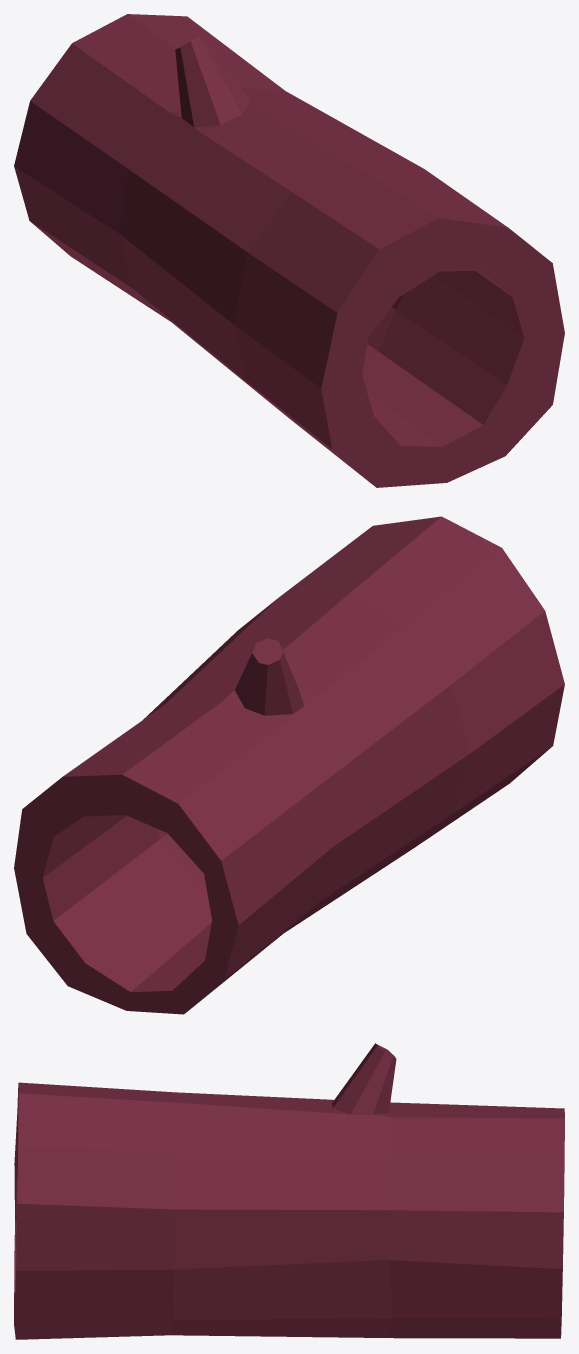
Rendered from Mo_ForestFallenTree02.fbx.
3 views of the same model, one above another, from view 1: azimuth 30°, elevation 25°; view 2: azimuth 150°, elevation 25°; view 3: azimuth 270°, elevation 25° (orthographic). The views are drawn at different scales.
Parts seen in each view (by area): view 1: Cylinder; view 2: Cylinder; view 3: Cylinder.
Part boxes in pixels (x1,y1,x2,y2): Cylinder: [14, 14, 564, 487]; Cylinder: [14, 516, 564, 1014]; Cylinder: [14, 1043, 564, 1339].
Bounding box in the file's own units: 220 × 261 × 496.
